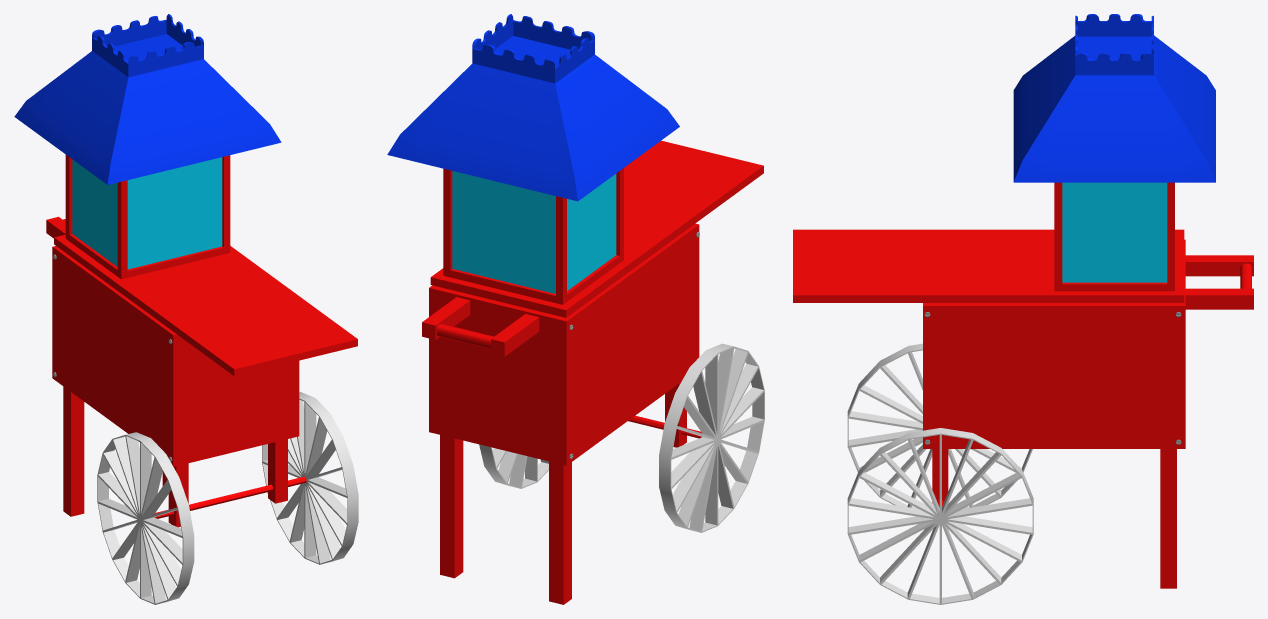
Rendered from StandFeteForaine.fbx.
The picture shows the model from 3 angles, left to right: view 1: azimuth 30°, elevation 25°; view 2: azimuth 150°, elevation 25°; view 3: azimuth 270°, elevation 25°; orthographic projection. The views are drawn at different scales.
Visible parts, largest first — view 1: Box001, Cylinder001, Cylinder002; view 2: Box001, Cylinder001, Cylinder002; view 3: Box001, Cylinder002, Cylinder001.
Part boxes in pixels (x1,y1,x2,y2): Box001: (14,14,357,527); Cylinder001: (97,432,194,604); Cylinder002: (262,392,358,564); Box001: (387,14,763,604); Cylinder001: (659,343,764,532); Cylinder002: (479,444,548,488); Box001: (793,14,1253,588); Cylinder002: (847,428,1033,604); Cylinder001: (847,343,1032,508).
Size of the model in its own units: 41.84 by 110 by 87.75.
